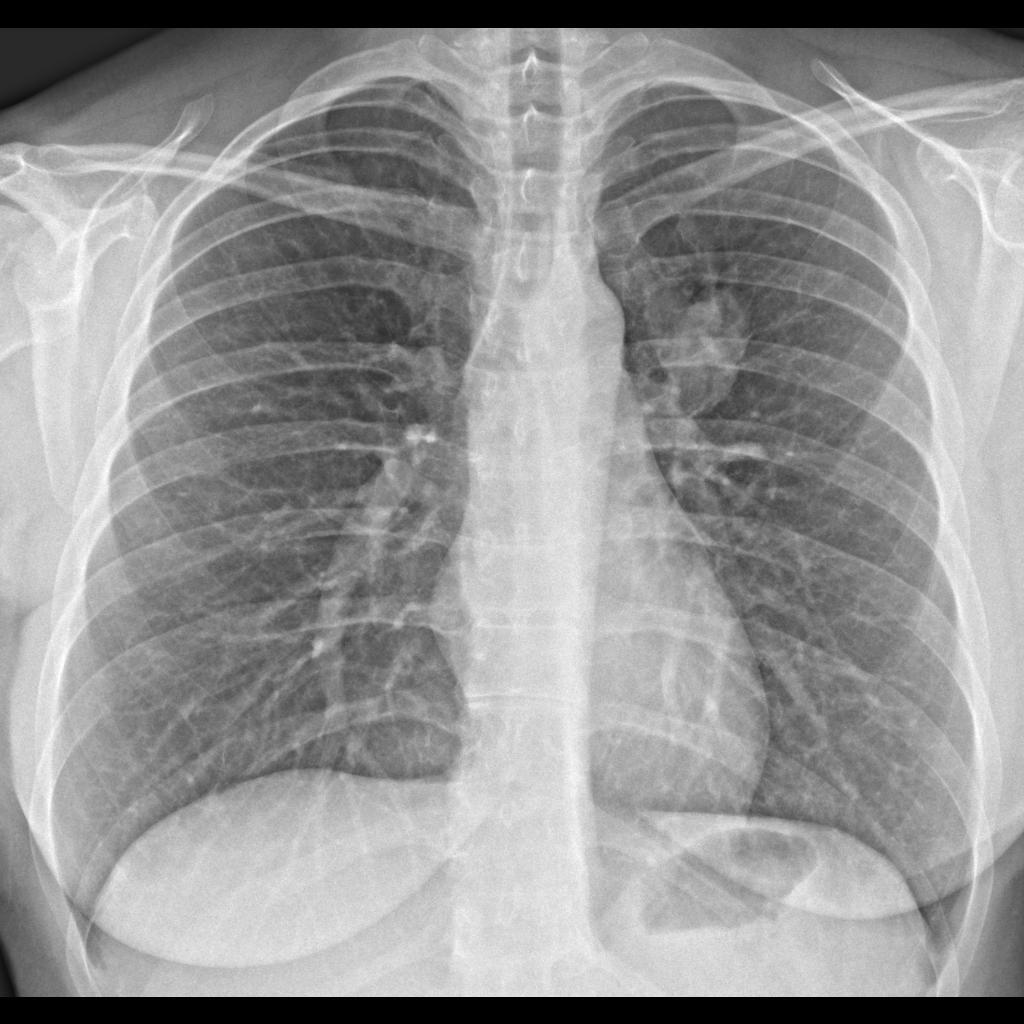Nodule: (648, 283, 763, 429)
